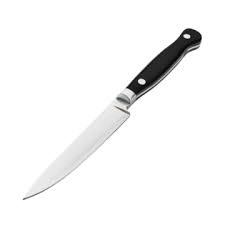Knife: (22, 27, 202, 200)
